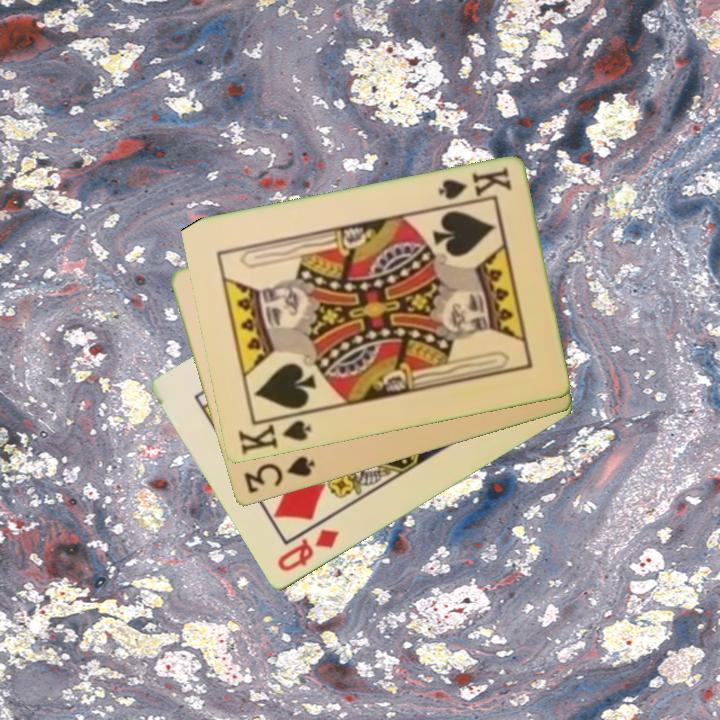3s: (240, 453, 318, 497)
Ks: (234, 410, 314, 458), (434, 165, 514, 203)
Qd: (273, 526, 342, 575)
